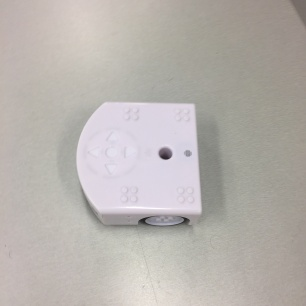thymio: (71, 94, 215, 241)
